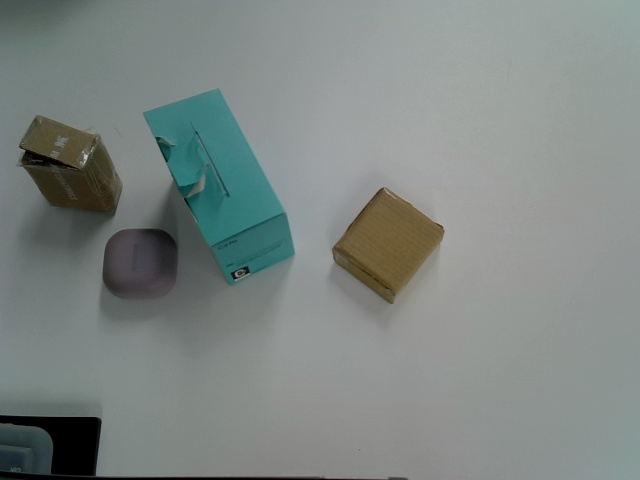defect: (17, 115, 122, 217)
normal: (332, 187, 445, 304)
